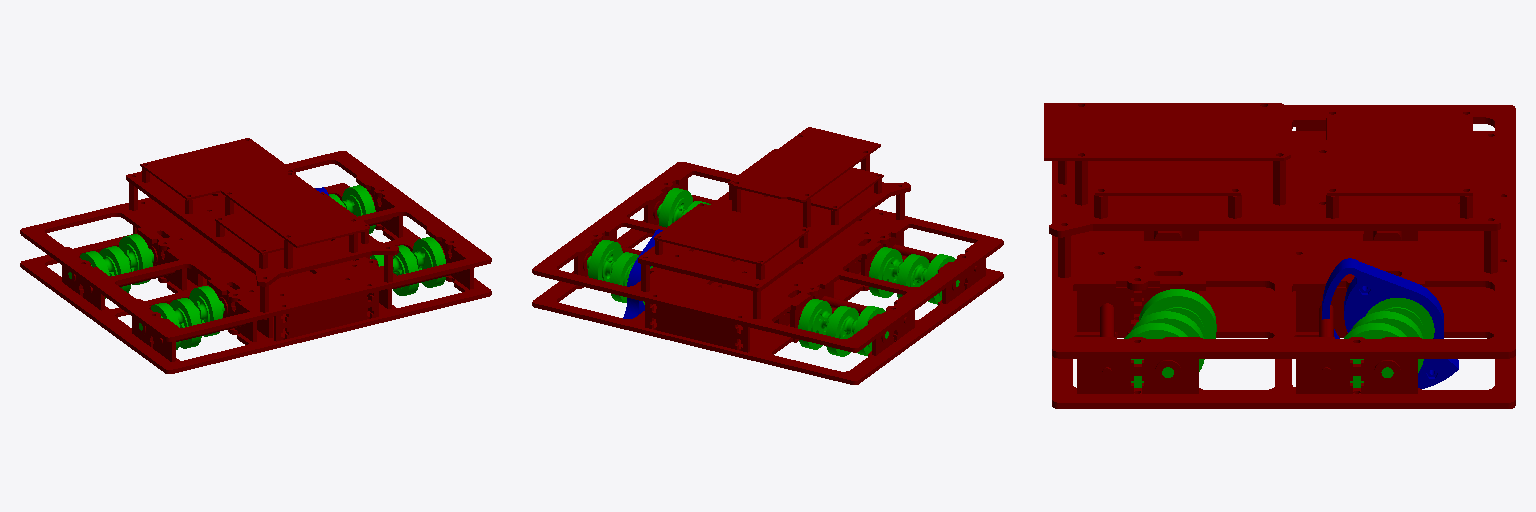
URDF robot description (tokuken_robot_b):
<?xml version="1.0"?>

<robot name="tokuken_robot_b">
	<link name="base_link">
		<visual>
			<geometry>
				<mesh filename="package://tokuken_robot_description/meshes/base_ad.stl" />
			</geometry>
			<material name="red">
				<color rgba="0.5 0 0 1" />
			</material>
		</visual>
		<collision>
			<geometry>
				<mesh filename="package://tokuken_robot_description/meshes/base_ad.stl" />
			</geometry>
		</collision>
		<inertial>
        	<mass value="0.323853"/>
        	<inertia ixx="0.003842" ixy="0.003443" ixz="-0.0009651" iyx="0.003443" iyy="0.006009" iyz="0.0006829" izx="-0.0009651" izy="0.0006829" izz="0.009156"/>
      	</inertial>
	</link>
	<gazebo reference="base_link">
		<material>Gazebo/Red</material>
	</gazebo>

	<link name="a_crank_link">
		<visual>
			<geometry>
				<mesh filename="package://tokuken_robot_description/meshes/crank1_ad.stl" />
			</geometry>
			<material name="green">
				<color rgba="0 0.7 0 1" />
			</material>
		</visual>
		<collision>
			<geometry>
				<mesh filename="package://tokuken_robot_description/meshes/crank1_ad.stl" />
			</geometry>
		</collision>
		<inertial>
        	<mass value="0.094516"/><!--mi-shusei-->
        	<inertia ixx="0.00001712" ixy="0.000006524249" ixz="-0.00001021" iyx="0.000006524249" iyy="0.0001625" iyz="-0.000000000112" izx="-0.00001021" izy="-0.000000000112" izz="0.0001625"/>
      	</inertial>
	</link>

	<link name="d_crank_link">
		<visual>
			<geometry>
				<mesh filename="package://tokuken_robot_description/meshes/crank1_ad.stl" />
			</geometry>
			<material name="green">
				<color rgba="0 0.7 0 1" />
			</material>
		</visual>
		<collision>
			<geometry>
				<mesh filename="package://tokuken_robot_description/meshes/crank1_ad.stl" />
			</geometry>
		</collision>
		<inertial>
        	<mass value="0.094516"/><!--mi-shusei-->
        	<inertia ixx="0.00001712" ixy="0.000006524249" ixz="-0.00001021" iyx="0.000006524249" iyy="0.0001625" iyz="-0.000000000112" izx="-0.00001021" izy="-0.000000000112" izz="0.0001625"/>
      	</inertial>
	</link>

	<link name="b_crank_link">
		<visual>
			<geometry>
				<mesh filename="package://tokuken_robot_description/meshes/crank2_ad.stl" />
			</geometry>
			<material name="green">
				<color rgba="0 0.7 0 1" />
			</material>
		</visual>
		<collision>
			<geometry>
				<mesh filename="package://tokuken_robot_description/meshes/crank2_ad.stl" />
			</geometry>
		</collision>
		<inertial>
        	<mass value="0.94516"/><!--mi-shusei-->
        	<inertia ixx="0.00001712" ixy="0.000006524249" ixz="0.00001119" iyx="-0.000004651619" iyy="0.0001625" iyz="0.0000000000000006756" izx="0.00001119" izy="0.0000000000000006756" izz="0.0001625"/>
      	</inertial>
	</link>

	<link name="c_crank_link">
		<visual>
			<geometry>
				<mesh filename="package://tokuken_robot_description/meshes/crank2_ad.stl" />
			</geometry>
			<material name="green">
				<color rgba="0 0.7 0 1" />
			</material>
		</visual>
		<collision>
			<geometry>
				<mesh filename="package://tokuken_robot_description/meshes/crank2_ad.stl" />
			</geometry>
		</collision>
		<inertial>
        	<mass value="0.94516"/><!--mi-shusei-->
        	<inertia ixx="0.00001712" ixy="0.000006524249" ixz="0.00001119" iyx="-0.000004651619" iyy="0.0001625" iyz="0.0000000000000006756" izx="0.00001119" izy="0.0000000000000006756" izz="0.0001625"/>
      	</inertial>
	</link>

	<link name="a_1_asi_link">
		<visual>
			<geometry>
				<mesh filename="package://tokuken_robot_description/meshes/asi_ad.stl" />
			</geometry>
			<material name="blue">
				<color rgba="0 0 0.7 1" />
			</material>
		</visual>
		<collision>
			<geometry>
				<mesh filename="package://tokuken_robot_description/meshes/asi_ad.stl" />
			</geometry>
		</collision>
		<inertial>
        	<mass value="0.010706"/><!--tekitou-->
        	<inertia ixx="0.000005894918" ixy="0.000000270901" ixz="-0.00000018083" iyx="0.000000270901" iyy="0.000003507106" iyz="-0.000000756312" izx="-0.00000018083" izy="-0.000000756312" izz="0.000002966943"/>
      	</inertial>
	</link>

	<joint name="base_to_a" type="continuous">
		<parent link="base_link"/>
		<child link="a_crank_link"/>
		<origin xyz="-0.0777 0.1375 0.013" rpy="0 0 0"/>
		<axis xyz="1 0 0"/>
	</joint>

	<joint name="base_to_d" type="continuous">
		<parent link="base_link"/>
		<child link="d_crank_link"/>
		<origin xyz="-0.0777 0.0475 0.013" rpy="0 0 0"/>
		<axis xyz="1 0 0"/>
	</joint>

	<joint name="base_to_b" type="continuous">
		<parent link="base_link"/>
		<child link="b_crank_link"/>
		<origin xyz="-0.1623 0.1375 0.013" rpy="0 0 0"/>
		<axis xyz="1 0 0"/>
	</joint>

	<joint name="base_to_c" type="continuous">
		<parent link="base_link"/>
		<child link="c_crank_link"/>
		<origin xyz="-0.1623 0.0475 0.013" rpy="0 0 0"/>
		<axis xyz="1 0 0"/>
	</joint>

	<joint name="a_to_asi_1" type="continuous">
		<parent link="a_crank_link"/>
		<child link="a_1_asi_link"/>
		<origin xyz="0.015 0.004330127019 -0.0025" rpy="0 0 0"/>
		<axis xyz="1 0 0"/>
		<limit velocity="40.0" effort="3.0" />
	</joint>

</robot>

--- Facts derived from the render (not from the file) ---
3 views of the same robot in one strip: view 1: azimuth 30°, elevation 25°; view 2: azimuth 150°, elevation 25°; view 3: azimuth 270°, elevation 25° (orthographic).
Model tokuken_robot_b with 6 links and 5 joints (5 continuous), rooted at base_link, posed every joint at zero.
Links seen in each view (by area): view 1: base_link, c_crank_link, b_crank_link, d_crank_link, a_crank_link; view 2: base_link, b_crank_link, c_crank_link, a_crank_link, d_crank_link, a_1_asi_link; view 3: base_link, a_1_asi_link, d_crank_link, a_crank_link.
Boxes of the visible links, x1,y1,x2,y2 form: base_link: [20, 138, 491, 373]; c_crank_link: [139, 286, 224, 349]; b_crank_link: [68, 234, 153, 298]; d_crank_link: [370, 237, 445, 295]; a_crank_link: [329, 185, 375, 233]; base_link: [532, 127, 1003, 384]; b_crank_link: [798, 299, 888, 356]; c_crank_link: [869, 247, 959, 304]; a_crank_link: [587, 240, 652, 304]; d_crank_link: [657, 188, 710, 227]; a_1_asi_link: [623, 229, 662, 318]; base_link: [1044, 103, 1515, 408]; a_1_asi_link: [1322, 258, 1458, 388]; d_crank_link: [1124, 289, 1216, 387]; a_crank_link: [1344, 298, 1434, 387].
Size in the robot's own frame: 0.24 by 0.1932 by 0.0879 metres.
6 mesh visuals loaded from 4 distinct referenced files (4 binary STL).
